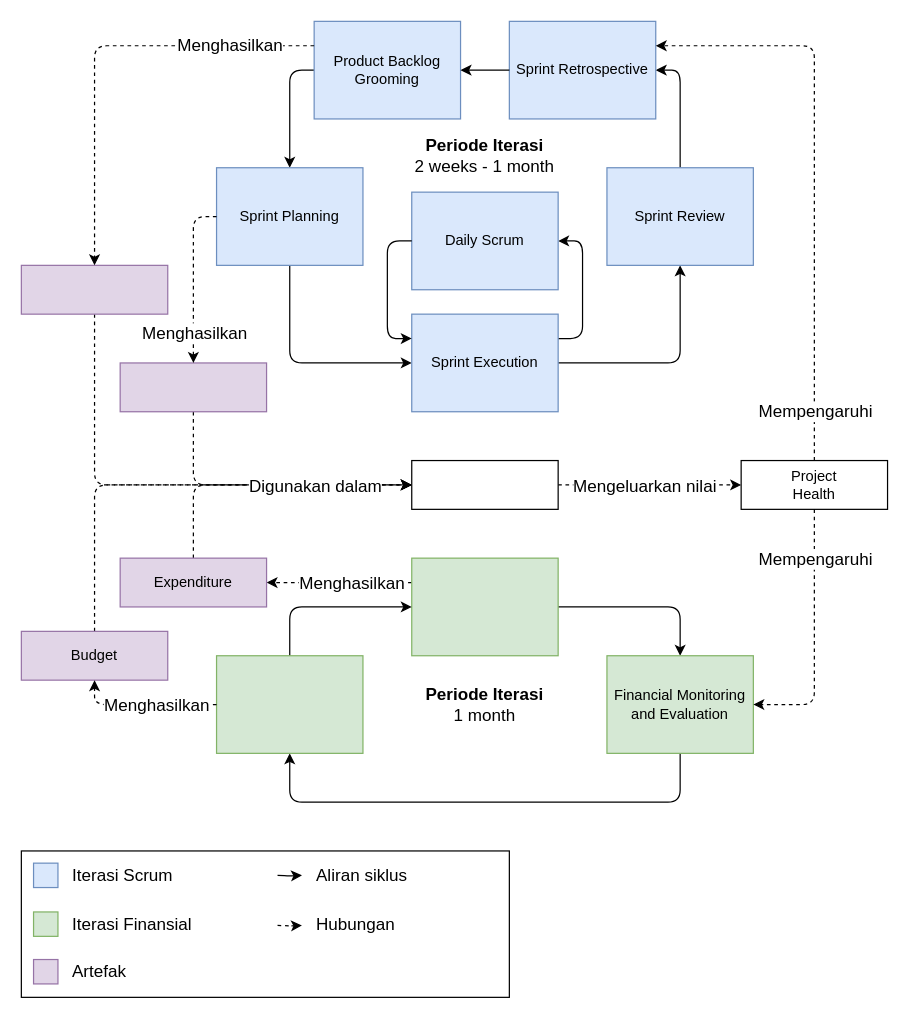
Image size: 909x1019. Some labels were removed from this diagram. Here are the shapes that lost their labels. From the top down, the centre of each, then its label:
the point at 94,289: Product Backlog
the point at 193,387: Sprint Backlog
the point at 484,484: Earned Value Management
the point at 484,606: Financial Execution
the point at 289,704: Financial Planning
